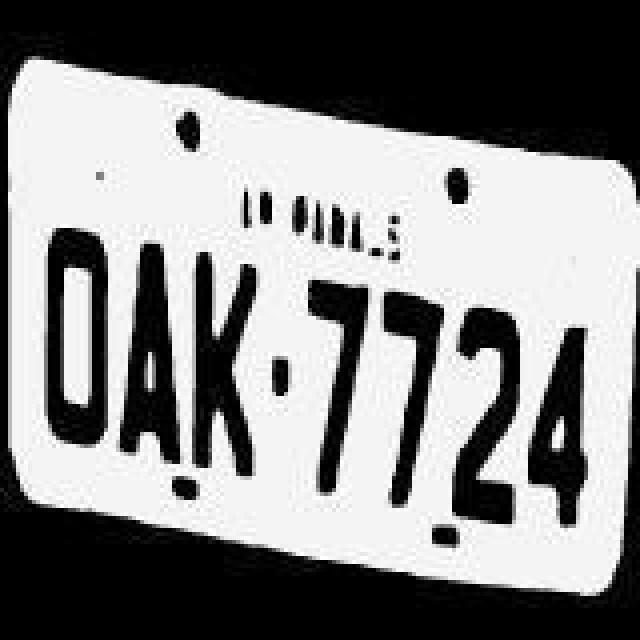2: (450, 276, 526, 532)
4: (526, 300, 602, 556)
7: (300, 272, 372, 520), (378, 280, 446, 520)
A: (118, 236, 186, 468)
K: (182, 250, 266, 478)
O: (28, 188, 116, 460)
